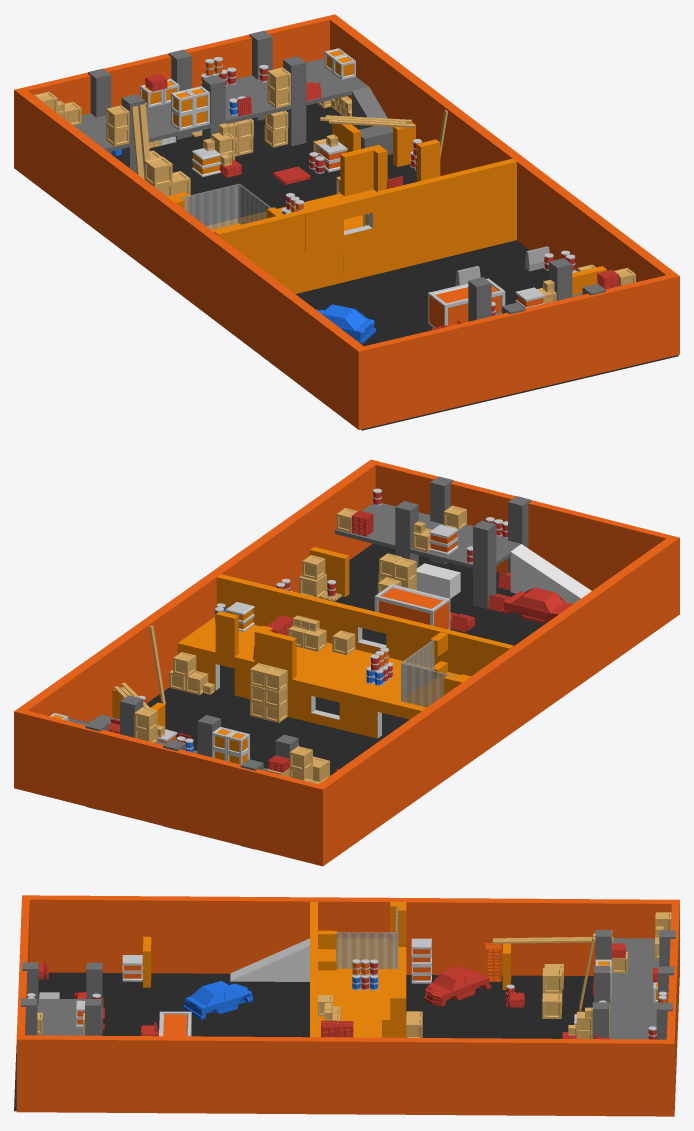
The model's file is map2Finalglass.glb.
3 renders of one model, top to bottom at view 1: azimuth 30°, elevation 25°; view 2: azimuth 150°, elevation 25°; view 3: azimuth 270°, elevation 25°, orthographic. The views are drawn at different scales.
Visible parts, largest first — view 1: floors, room.001, Plane, Cube.004, Cube.016, _x0023_BEGIN_WALLcon_mur.jpg1110_x002C_3.001, up2, Cube.005, Cube.035, _x0023_BEGIN_WALLcon_mur.jpg1110_x002C_3.002, Cube, Box.056 (+1 smaller); view 2: floors, room.001, Plane, Cube.016, Cube.004, Cube.012, Cube.005, _x0023_BEGIN_WALLcon_mur.jpg1110_x002C_3.001, Cube.007, Cube.011, _x0023_BEGIN_WALLcon_mur.jpg1110_x002C_3.002, obj.028 (+1 smaller); view 3: floors, Plane, room.001, Cube.004, Cube.016, _x0023_BEGIN_WALLcon_mur.jpg1110_x002C_3.002, Cube.002, Cube.035, Cube.006, Cube.005, BigBox.001, BigBox.010 (+8 smaller).
Boxes of the visible parts, <box> form: floors: <box>14,14,679,429</box>; room.001: <box>167,139,516,293</box>; Plane: <box>111,103,678,430</box>; Cube.004: <box>74,30,368,177</box>; Cube.016: <box>468,258,605,321</box>; _x0023_BEGIN_WALLcon_mur.jpg1110_x002C_3.001: <box>181,184,238,229</box>; up2: <box>352,87,392,154</box>; Cube.005: <box>428,278,505,327</box>; Cube.035: <box>316,304,376,344</box>; _x0023_BEGIN_WALLcon_mur.jpg1110_x002C_3.002: <box>237,183,271,224</box>; Cube: <box>393,122,415,166</box>; Box.056: <box>144,156,172,186</box>; floors: <box>14,459,679,866</box>; room.001: <box>177,574,513,738</box>; Plane: <box>146,543,549,775</box>; Cube.016: <box>335,476,530,608</box>; Cube.004: <box>68,695,298,849</box>; Cube.012: <box>510,544,591,603</box>; Cube.005: <box>374,584,450,629</box>; _x0023_BEGIN_WALLcon_mur.jpg1110_x002C_3.001: <box>401,663,457,707</box>; Cube.007: <box>502,587,572,623</box>; Cube.011: <box>416,563,460,598</box>; _x0023_BEGIN_WALLcon_mur.jpg1110_x002C_3.002: <box>401,639,434,701</box>; obj.028: <box>309,547,349,596</box>; floors: <box>16,895,679,1116</box>; Plane: <box>14,972,593,1111</box>; room.001: <box>310,902,406,1037</box>; Cube.004: <box>592,930,675,1039</box>; Cube.016: <box>21,962,102,1035</box>; _x0023_BEGIN_WALLcon_mur.jpg1110_x002C_3.002: <box>336,932,398,969</box>; Cube.002: <box>230,938,309,981</box>; Cube.035: <box>183,980,253,1019</box>; Cube.006: <box>424,966,491,1006</box>; Cube.005: <box>159,1011,191,1036</box>; BigBox.001: <box>411,938,431,965</box>; BigBox.010: <box>122,955,142,981</box>.
Bounding box in the file's own units: 35.03 × 8.4 × 66.39.
25 materials, 2 textured.
